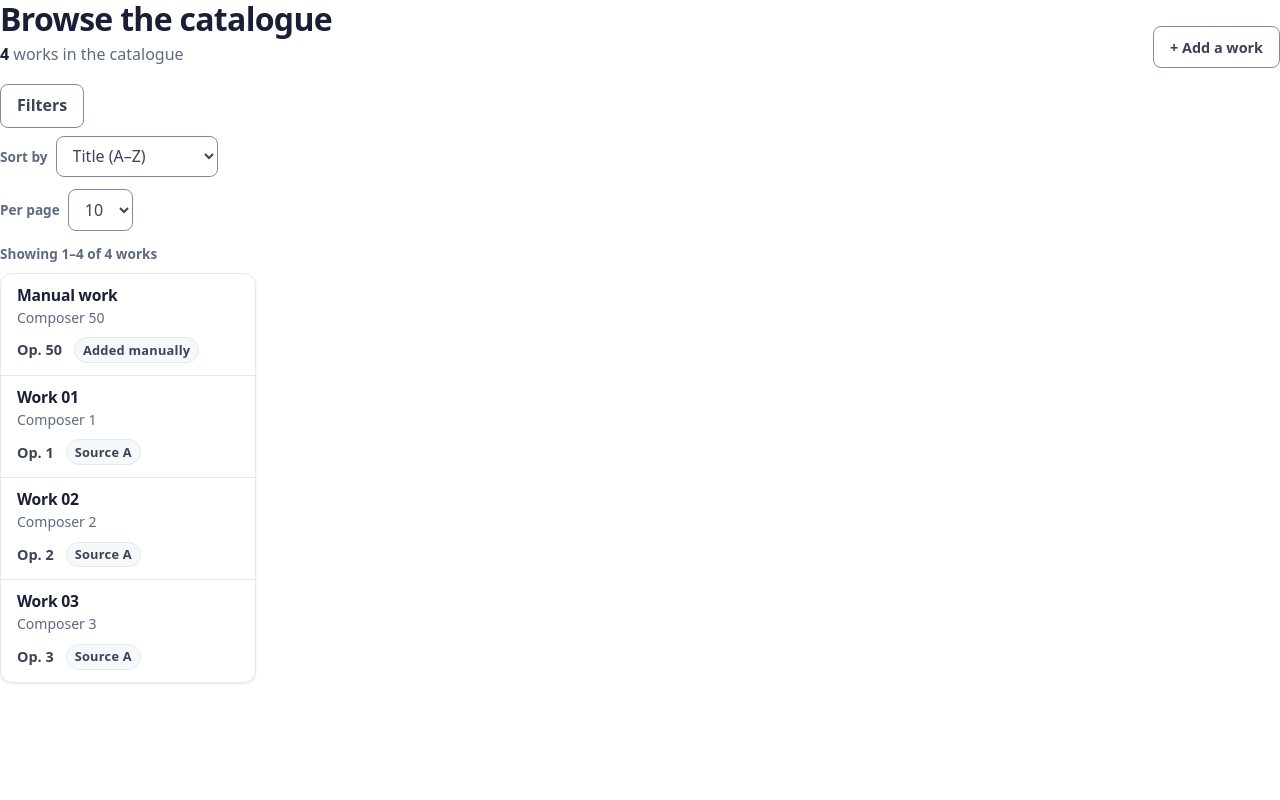
Test: WorkCataloguePage › on a narrow screen › opens the filters in a drawer, applies them and closes with Escape
Expected: the text "Showing 1–4 of 4 works" is shown, 0,243 -> 157,265
Click the button "Filters" at (42, 106), box 0,84 -> 84,128
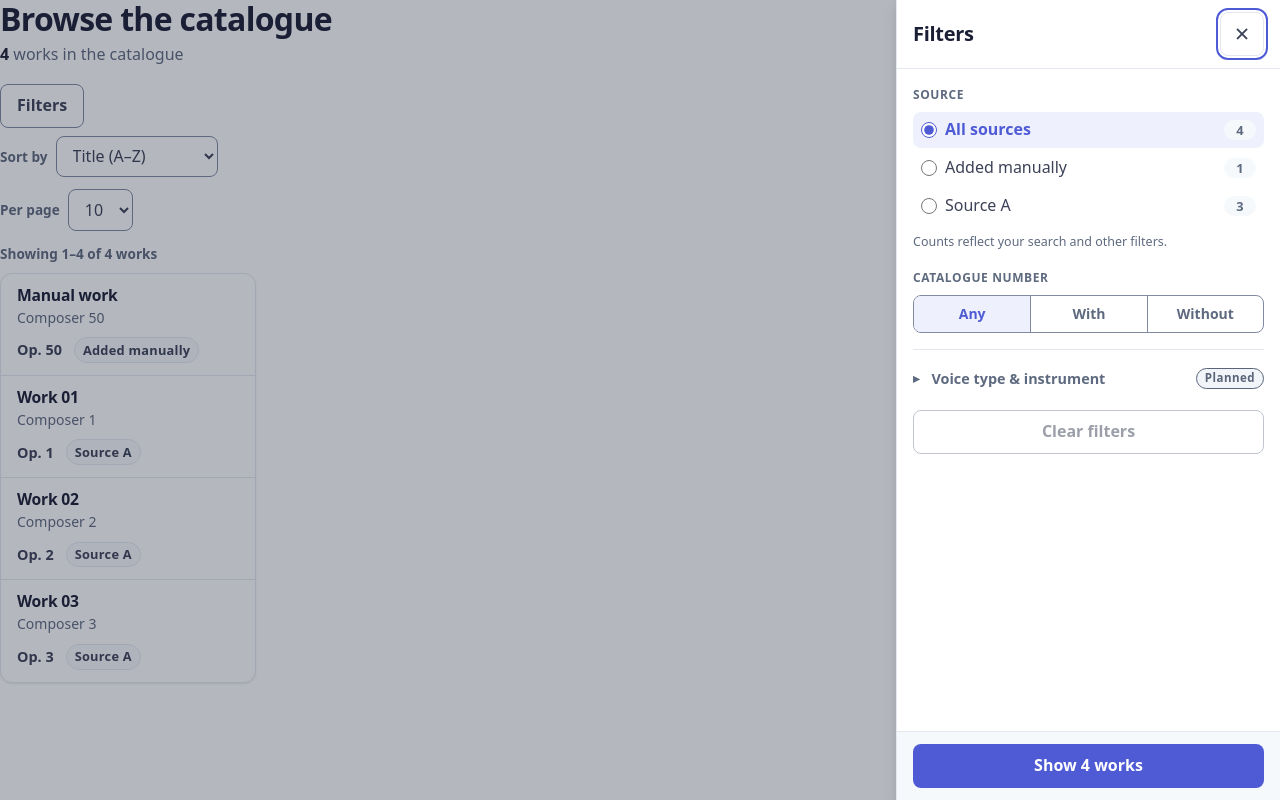
Click the radio button labelled "Added manually 1" at (929, 168), box 921,160 -> 937,176
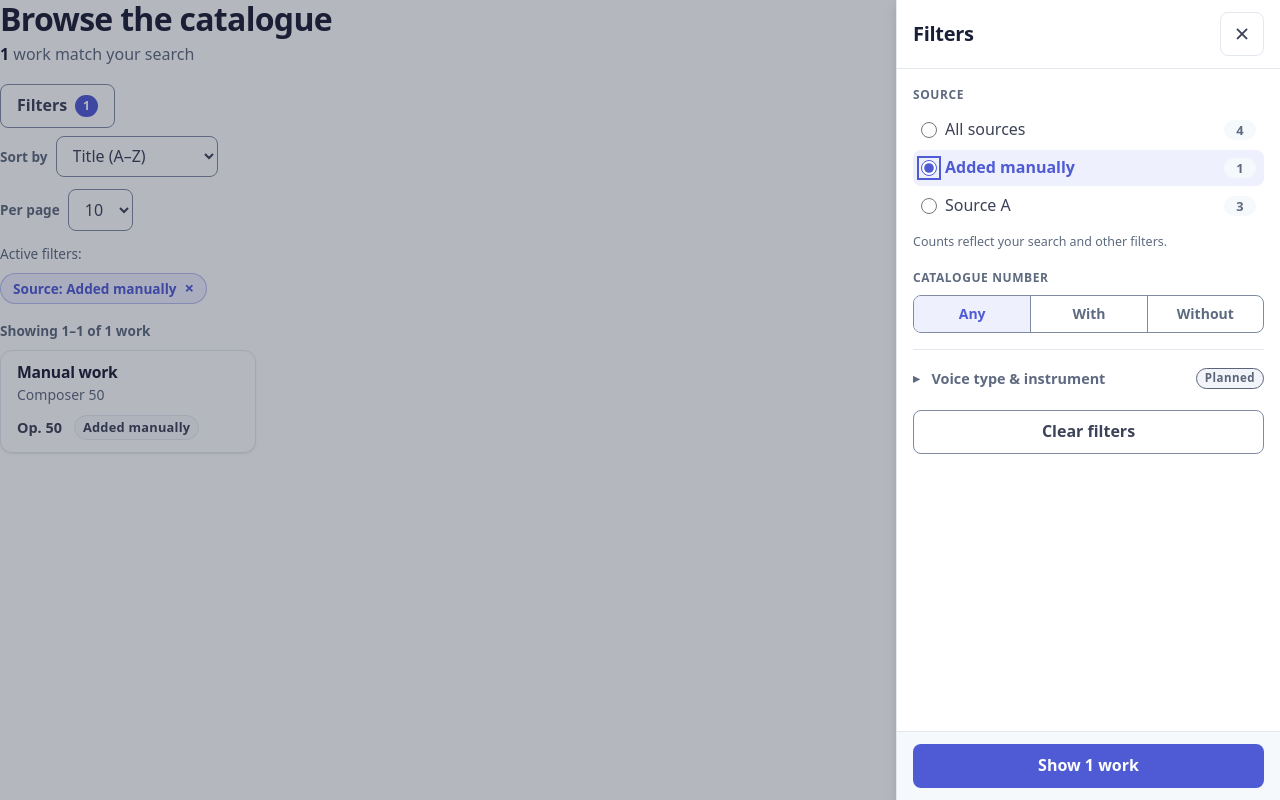
Expected: the button "Show 1 work" is shown
Click the button "Show 1 work" at (1088, 766), box 913,744 -> 1264,788
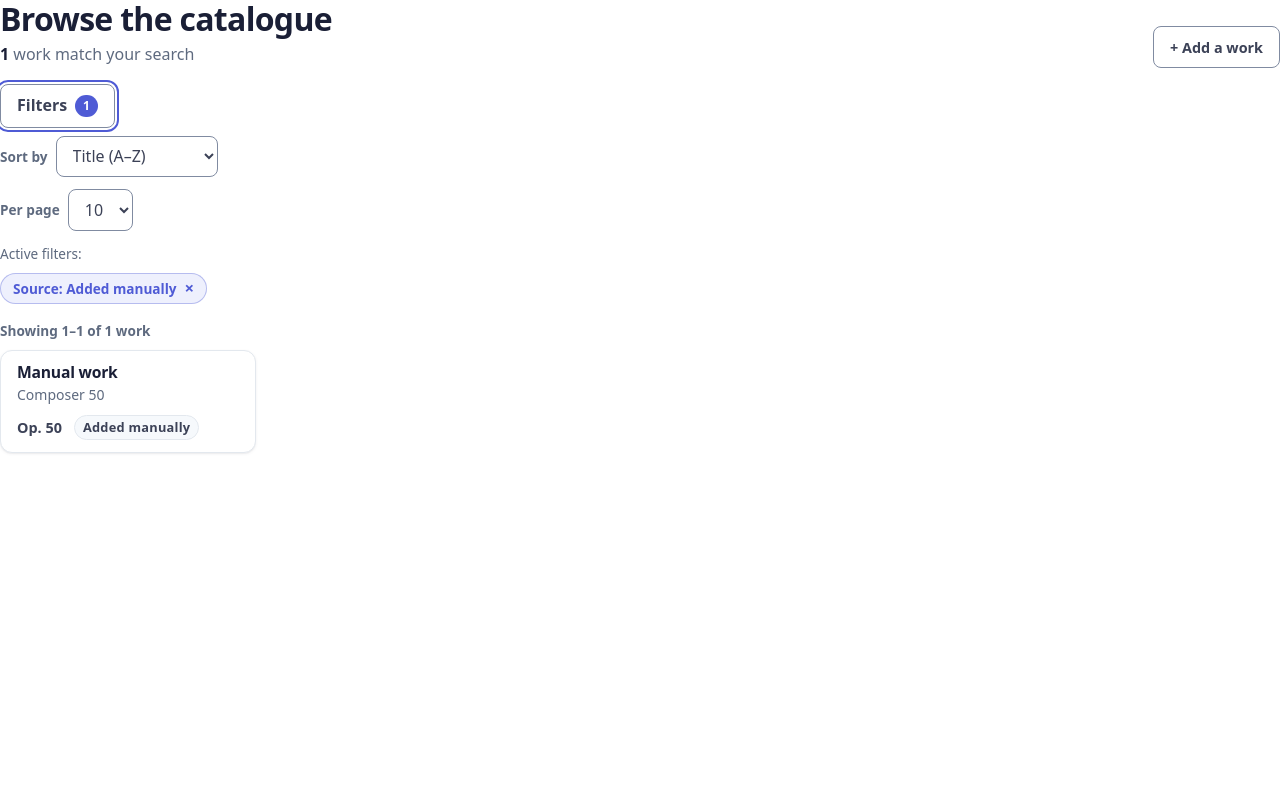
Expected: the dialog is gone
Click the button named "Filters 1 active" at (57, 106), box 0,84 -> 115,128
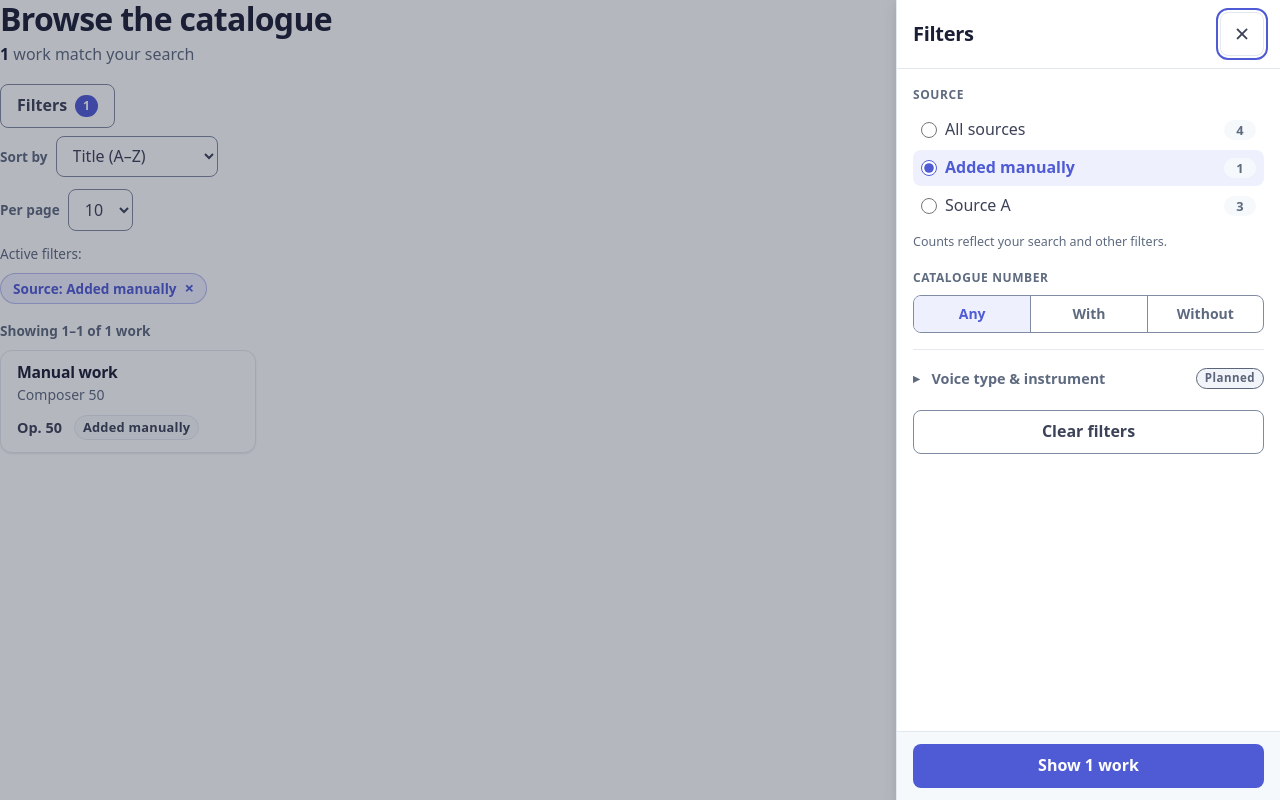
Press Escape
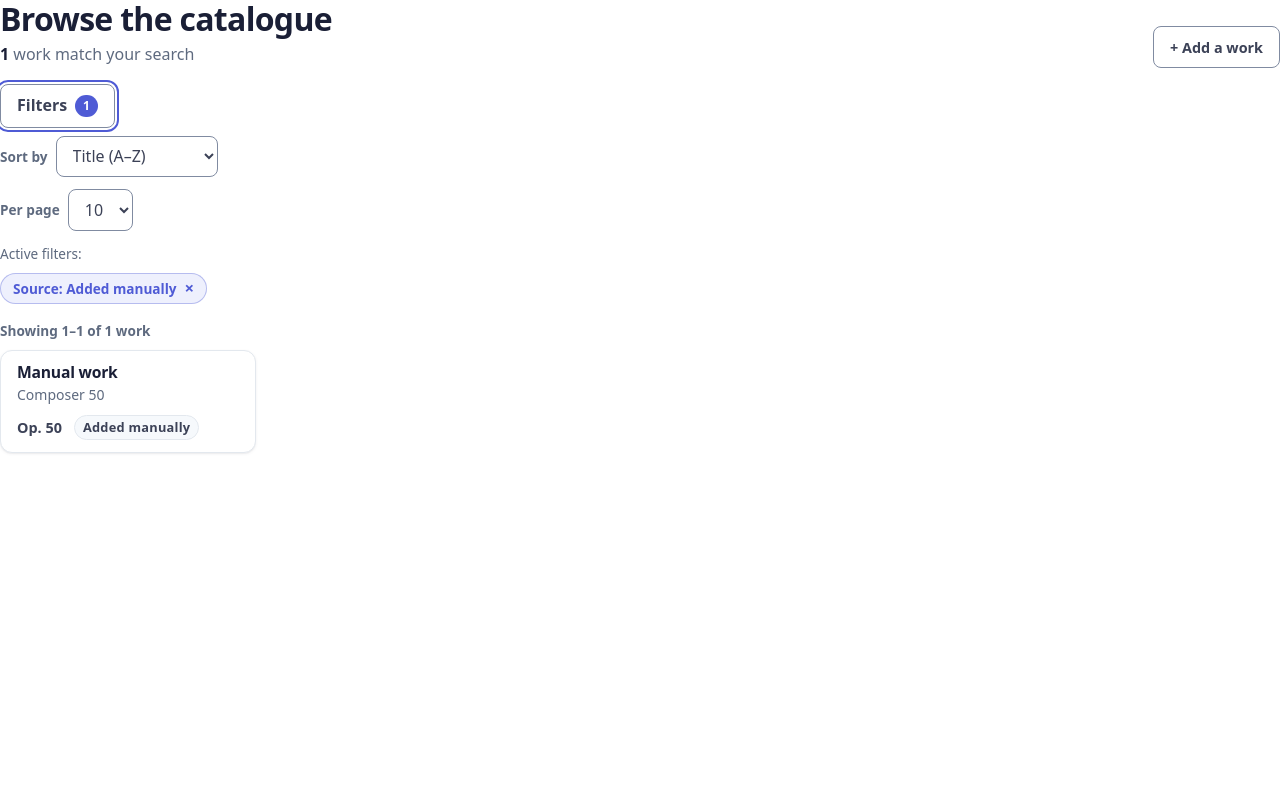
Expected: the dialog is gone
